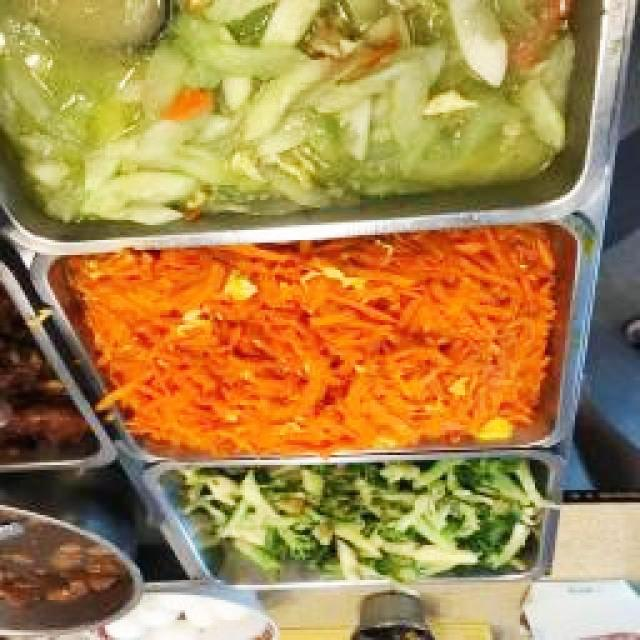carrot_eggs: (60, 252, 553, 452)
